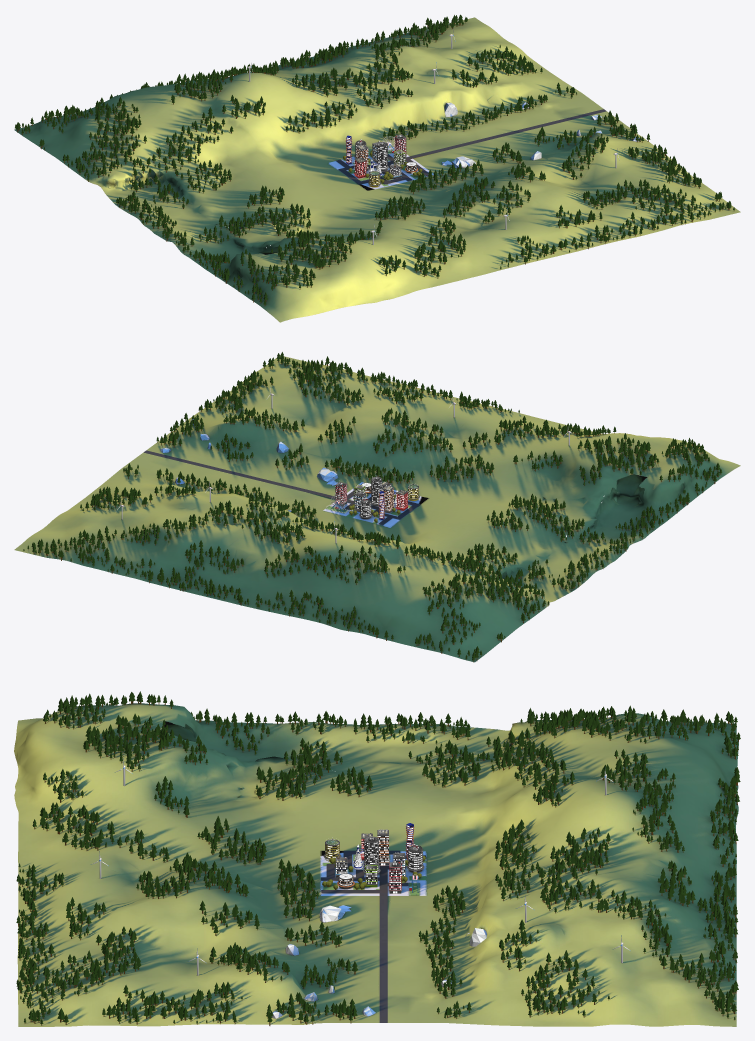
Rendered from city.glb.
3 views of the same model, one above another, from view 1: azimuth 30°, elevation 25°; view 2: azimuth 150°, elevation 25°; view 3: azimuth 270°, elevation 25° (orthographic). The views are drawn at different scales.
Visible parts, largest first — view 1: Floor, PineTrees, CityBase.001; view 2: Floor, PineTrees, CityBase.001; view 3: Floor, PineTrees, CityBase.001.
Part boxes in pixels (x1,y1,x2,y2): Floor: (14,17,740,322); PineTrees: (15,14,734,305); CityBase.001: (336,102,640,184); Floor: (14,356,740,662); PineTrees: (23,352,722,662); CityBase.001: (144,419,420,524); Floor: (14,703,738,1026); PineTrees: (16,691,740,1025); CityBase.001: (271,850,486,1022).
Bounding box in the file's own units: 67.75 × 9.32 × 67.76.
34 materials, 7 textured.
